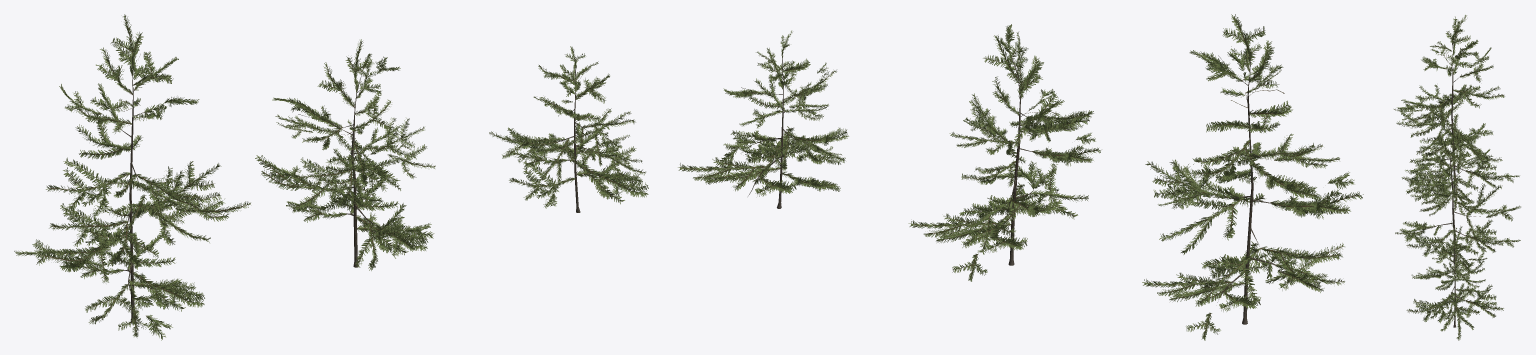
Rendered from fir-saplings.glb.
3 renders of one model, left to right at view 1: azimuth 30°, elevation 25°; view 2: azimuth 150°, elevation 25°; view 3: azimuth 270°, elevation 25°, orthographic. The views are drawn at different scales.
Parts seen in each view (by area): view 1: fir_sapling_a, fir_sapling_b, fir_sapling_c; view 2: fir_sapling_a, fir_sapling_b, fir_sapling_c; view 3: fir_sapling_a, fir_sapling_b, fir_sapling_c.
Boxes of the visible parts, <box> form: fir_sapling_a: <box>14,14,250,340</box>; fir_sapling_b: <box>255,39,435,270</box>; fir_sapling_c: <box>489,46,648,212</box>; fir_sapling_a: <box>1142,14,1363,340</box>; fir_sapling_b: <box>908,24,1100,281</box>; fir_sapling_c: <box>678,30,848,208</box>; fir_sapling_a: <box>1394,15,1519,211</box>; fir_sapling_b: <box>1395,129,1520,276</box>; fir_sapling_c: <box>1406,221,1503,340</box>.
Bounding box in the file's own units: 2.74 × 1.3 × 0.8259.
2 materials, 2 textured.
